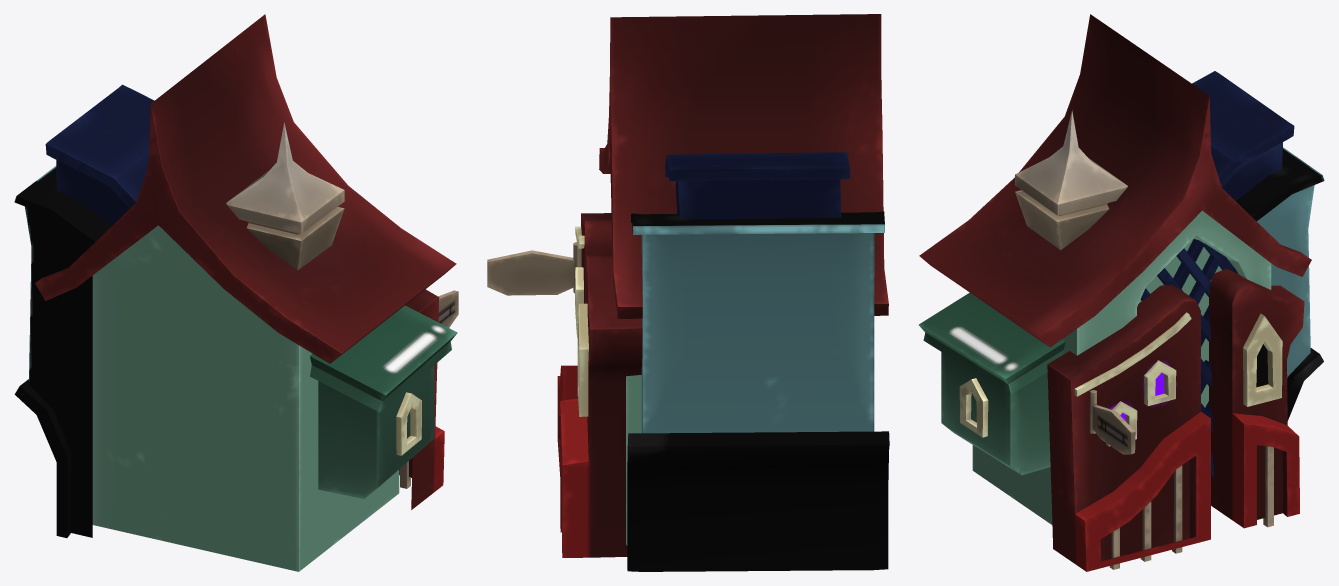
File: modul_mining_1.fbx
3 views of the same model, side by side, from view 1: azimuth 30°, elevation 25°; view 2: azimuth 150°, elevation 25°; view 3: azimuth 270°, elevation 25° (orthographic). The views are drawn at different scales.
Visible parts, largest first — view 1: modul_mining_1; view 2: modul_mining_1; view 3: modul_mining_1.
Part boxes in pixels (bbox=[...]): modul_mining_1: bbox=[14, 14, 458, 571]; modul_mining_1: bbox=[487, 14, 889, 571]; modul_mining_1: bbox=[919, 14, 1324, 571].
Size of the model in its own units: 1047 by 1140 by 974.
Materials: 1 (1 with a texture image).
